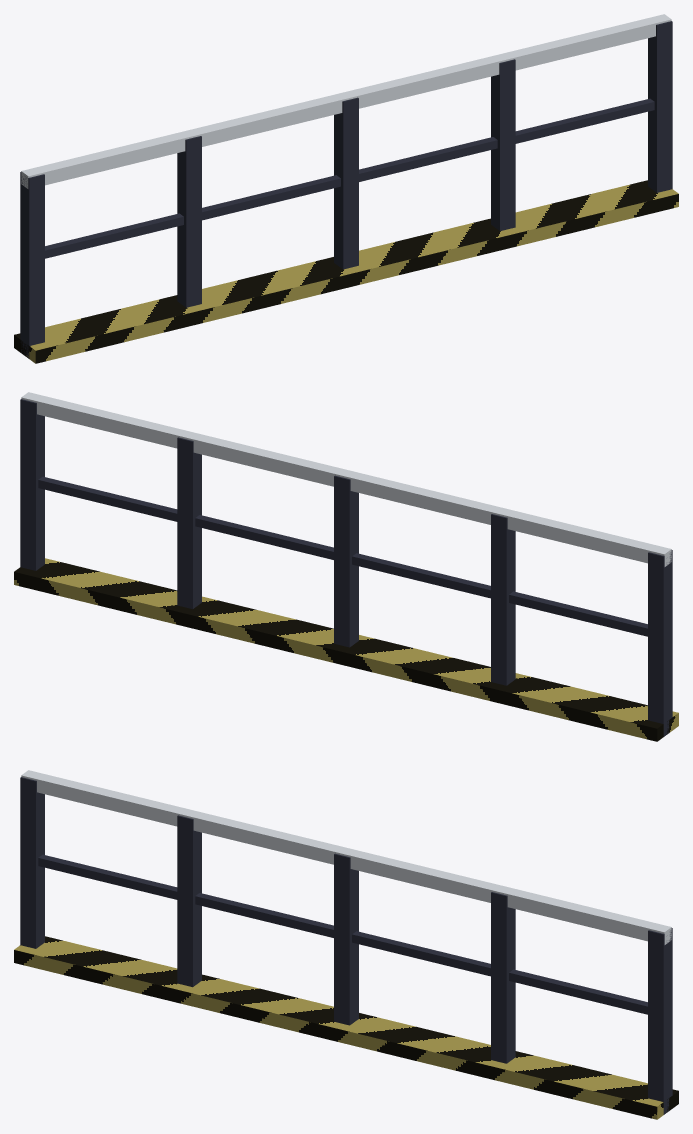
File: plateau_rail_segment.glb
The picture shows the model from 3 angles, top to bottom: view 1: azimuth 30°, elevation 25°; view 2: azimuth 150°, elevation 25°; view 3: azimuth 330°, elevation 25°; orthographic projection.
Visible parts, largest first — view 1: plateau_rail_segment; view 2: plateau_rail_segment; view 3: plateau_rail_segment.
Part boxes in pixels (left/top/right/bottom): plateau_rail_segment: left=14, top=14, right=678, bottom=363; plateau_rail_segment: left=14, top=392, right=678, bottom=741; plateau_rail_segment: left=14, top=770, right=678, bottom=1119.
Bounding box in the file's own units: 4.1 × 1.11 × 0.24.
Materials: 3 (1 with a texture image).
